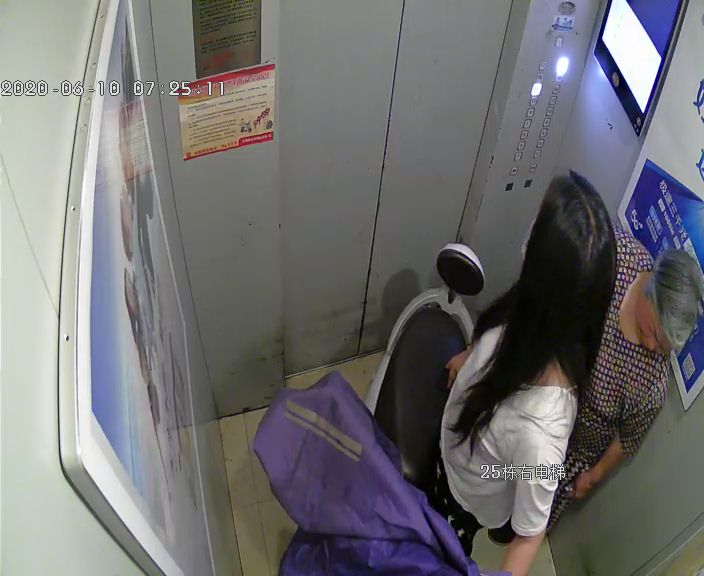Electric-bicycle: (367, 244, 485, 472)
